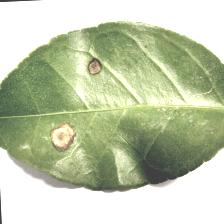canker: (53, 59, 106, 144)
